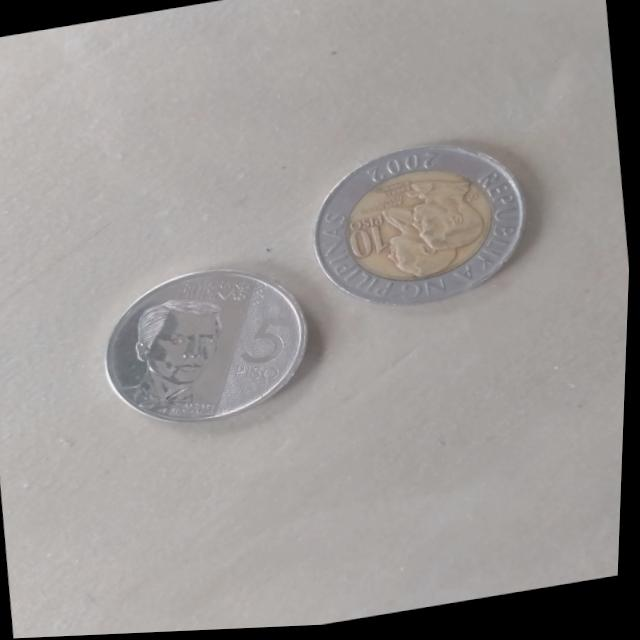10_Old_Front: (302, 131, 539, 327)
5_New_Front: (102, 258, 319, 435)
